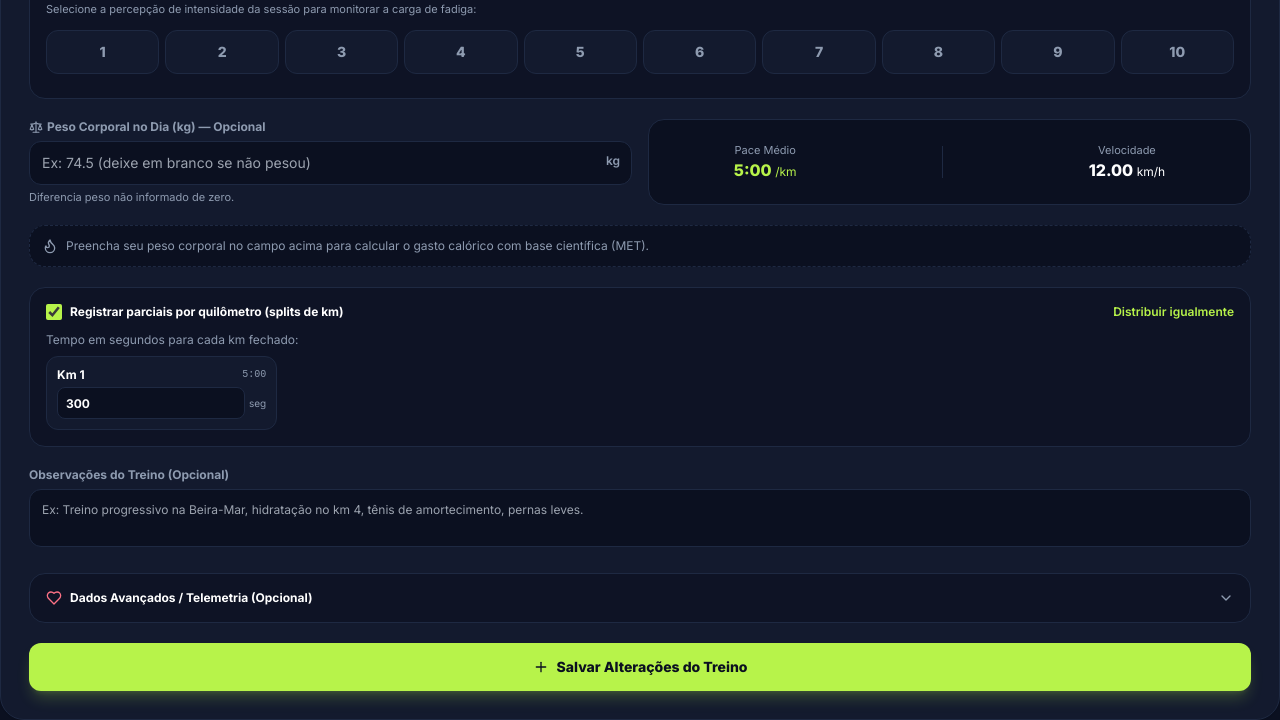
Test: Fase 7 — Upload Unificado (.FIT + .GPX), Painel Somente Leitura e Formulário Pós-Upload Inteligente › 6. TrainingForm: seção 'Dados Avançados / Telemetria' inicia recolhida e preserva source/externalId/splits/calorias .FIT ao editar treino importado
Later steps or results of the test are not shown.
(page scrolled)
Note: Abre painel avançado e verifica valores carregados
Click the button with test id "toggle-advanced-telemetry".
click(191, 598)  # box [46,590,1234,606]
(page scrolled)
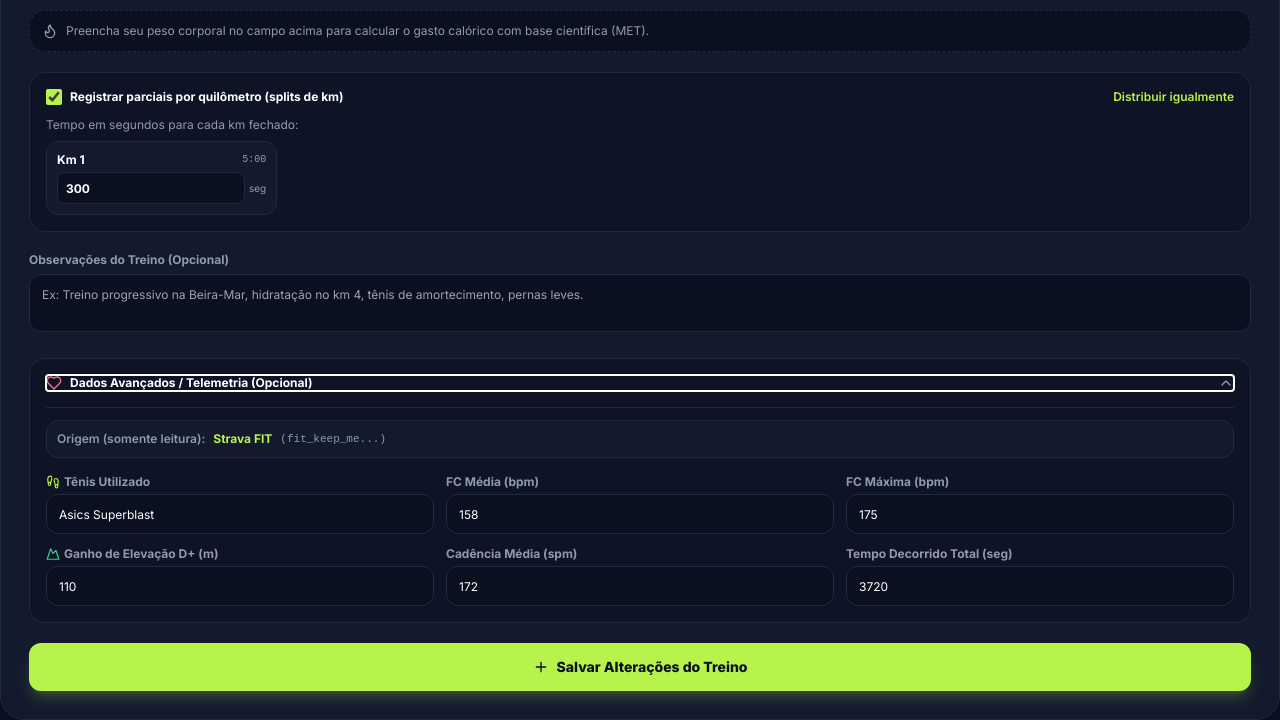
Expected: the element with test id "advanced-telemetry-panel" is shown, [46,407,1234,606]
Expected: the field with test id "advanced-shoe-input" holds "Asics Superblast", [46,494,434,534]
